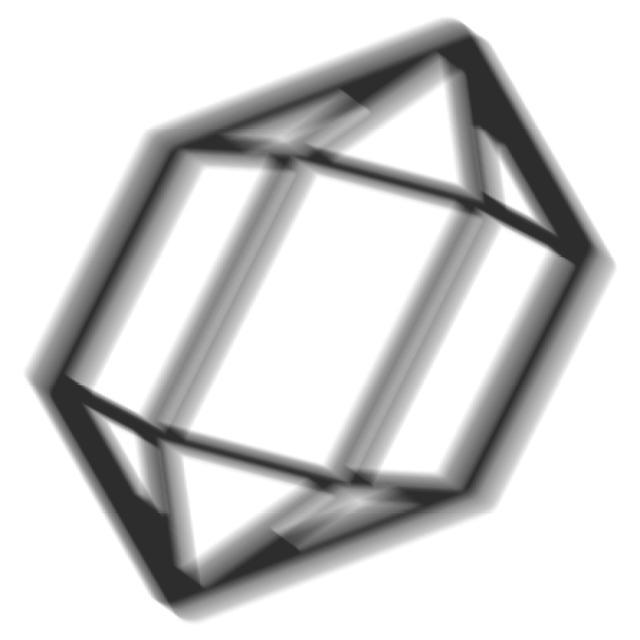crystal: (13, 11, 630, 627)
